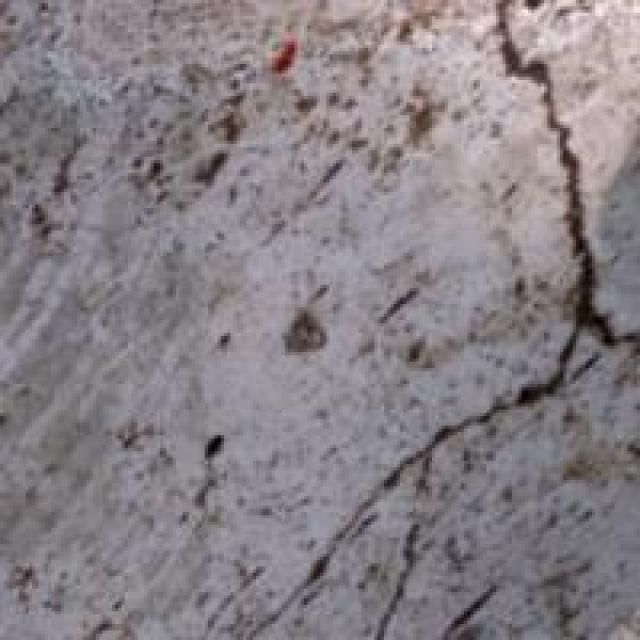crack: (304, 7, 637, 614)
